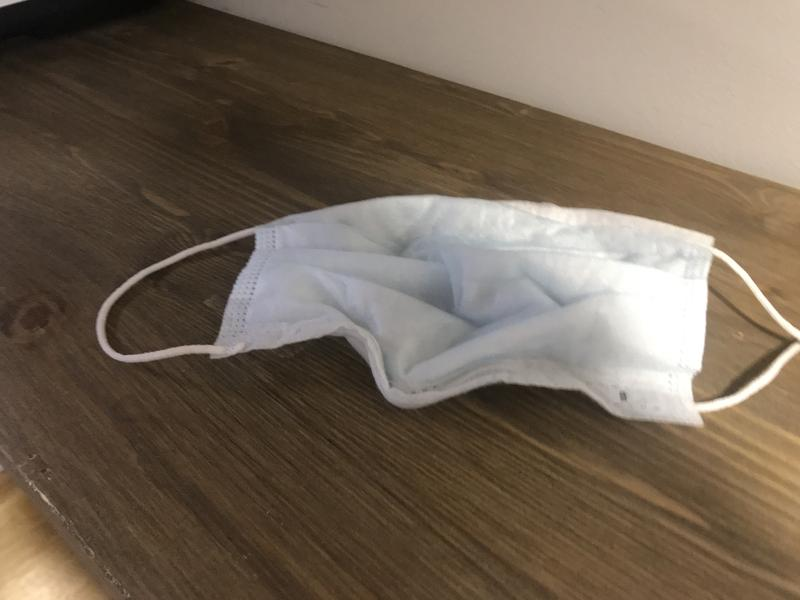medical_mask: (95, 193, 800, 426)
